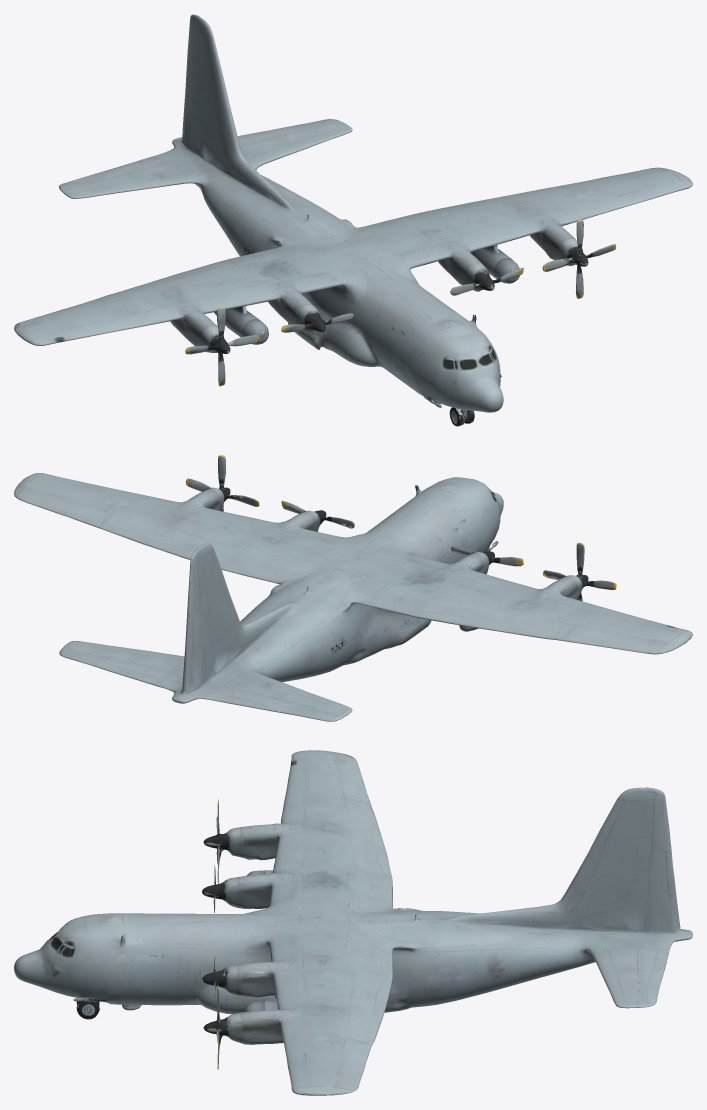
3 renders of one model, top to bottom at view 1: azimuth 30°, elevation 25°; view 2: azimuth 150°, elevation 25°; view 3: azimuth 270°, elevation 25°, orthographic. The views are drawn at different scales.
Parts seen in each view (by area): view 1: tripo_node_476389eb; view 2: tripo_node_476389eb; view 3: tripo_node_476389eb.
Boxes of the visible parts, box(x1,y1,x2,y2) form: tripo_node_476389eb: box(14, 14, 692, 426); tripo_node_476389eb: box(14, 455, 692, 721); tripo_node_476389eb: box(14, 750, 692, 1095).
Size of the model in its own units: 35.73 by 11.07 by 29.79.
Materials: 1 (1 with a texture image).
